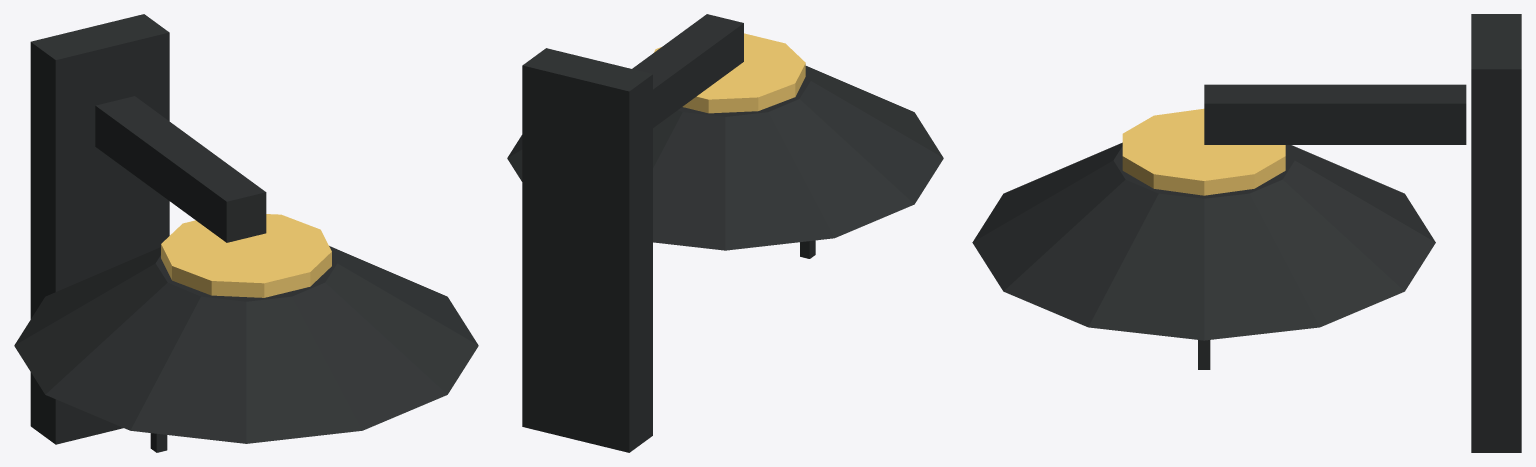
The model's file is WallLamp.fbx.
The picture shows the model from 3 angles, left to right: view 1: azimuth 30°, elevation 25°; view 2: azimuth 150°, elevation 25°; view 3: azimuth 270°, elevation 25°; orthographic projection. The views are drawn at different scales.
Visible parts, largest first — view 1: WallLamp; view 2: WallLamp; view 3: WallLamp.
Part boxes in pixels (x1,y1,x2,y2): WallLamp: [14, 14, 478, 452]; WallLamp: [507, 14, 943, 452]; WallLamp: [972, 14, 1521, 452].
Size of the model in its own units: 46 by 42 by 54.5.
